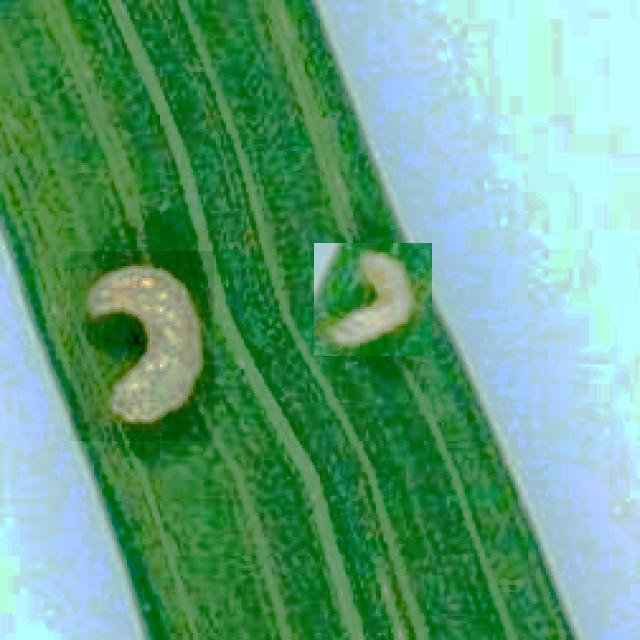whorl-maggot: (70, 251, 214, 441), (314, 243, 432, 356)
